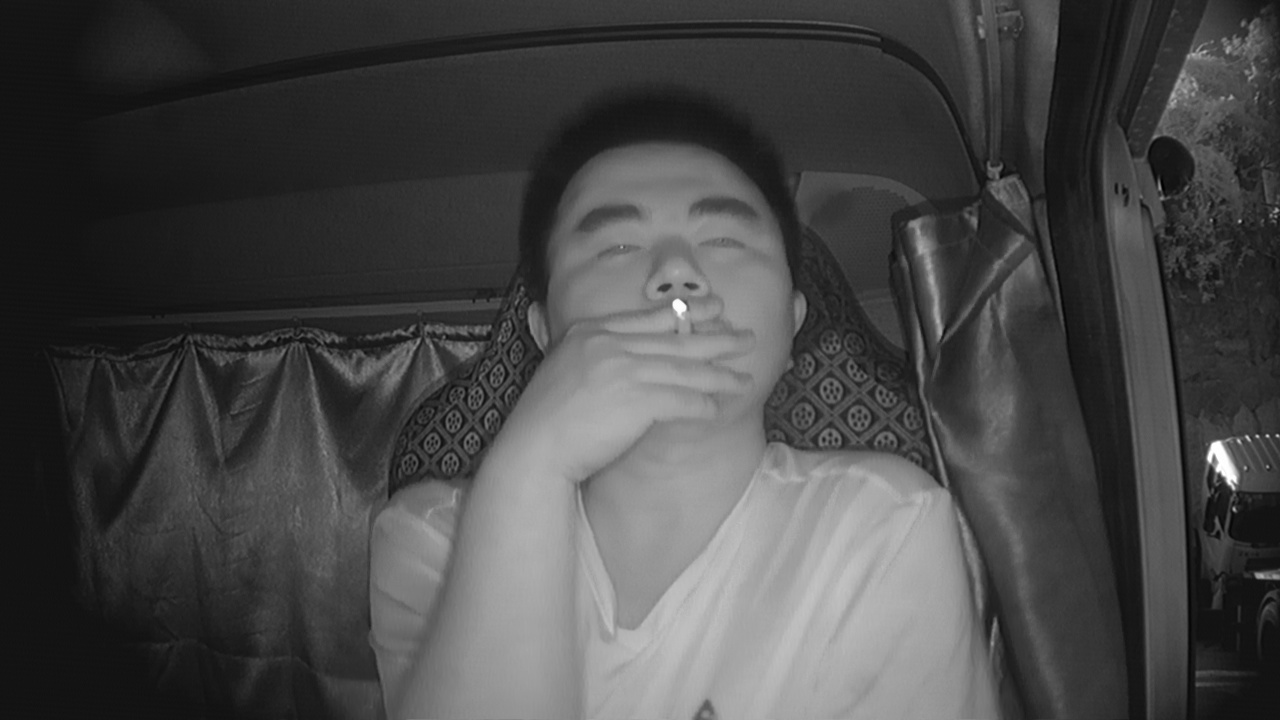hand: (601, 296, 760, 430)
